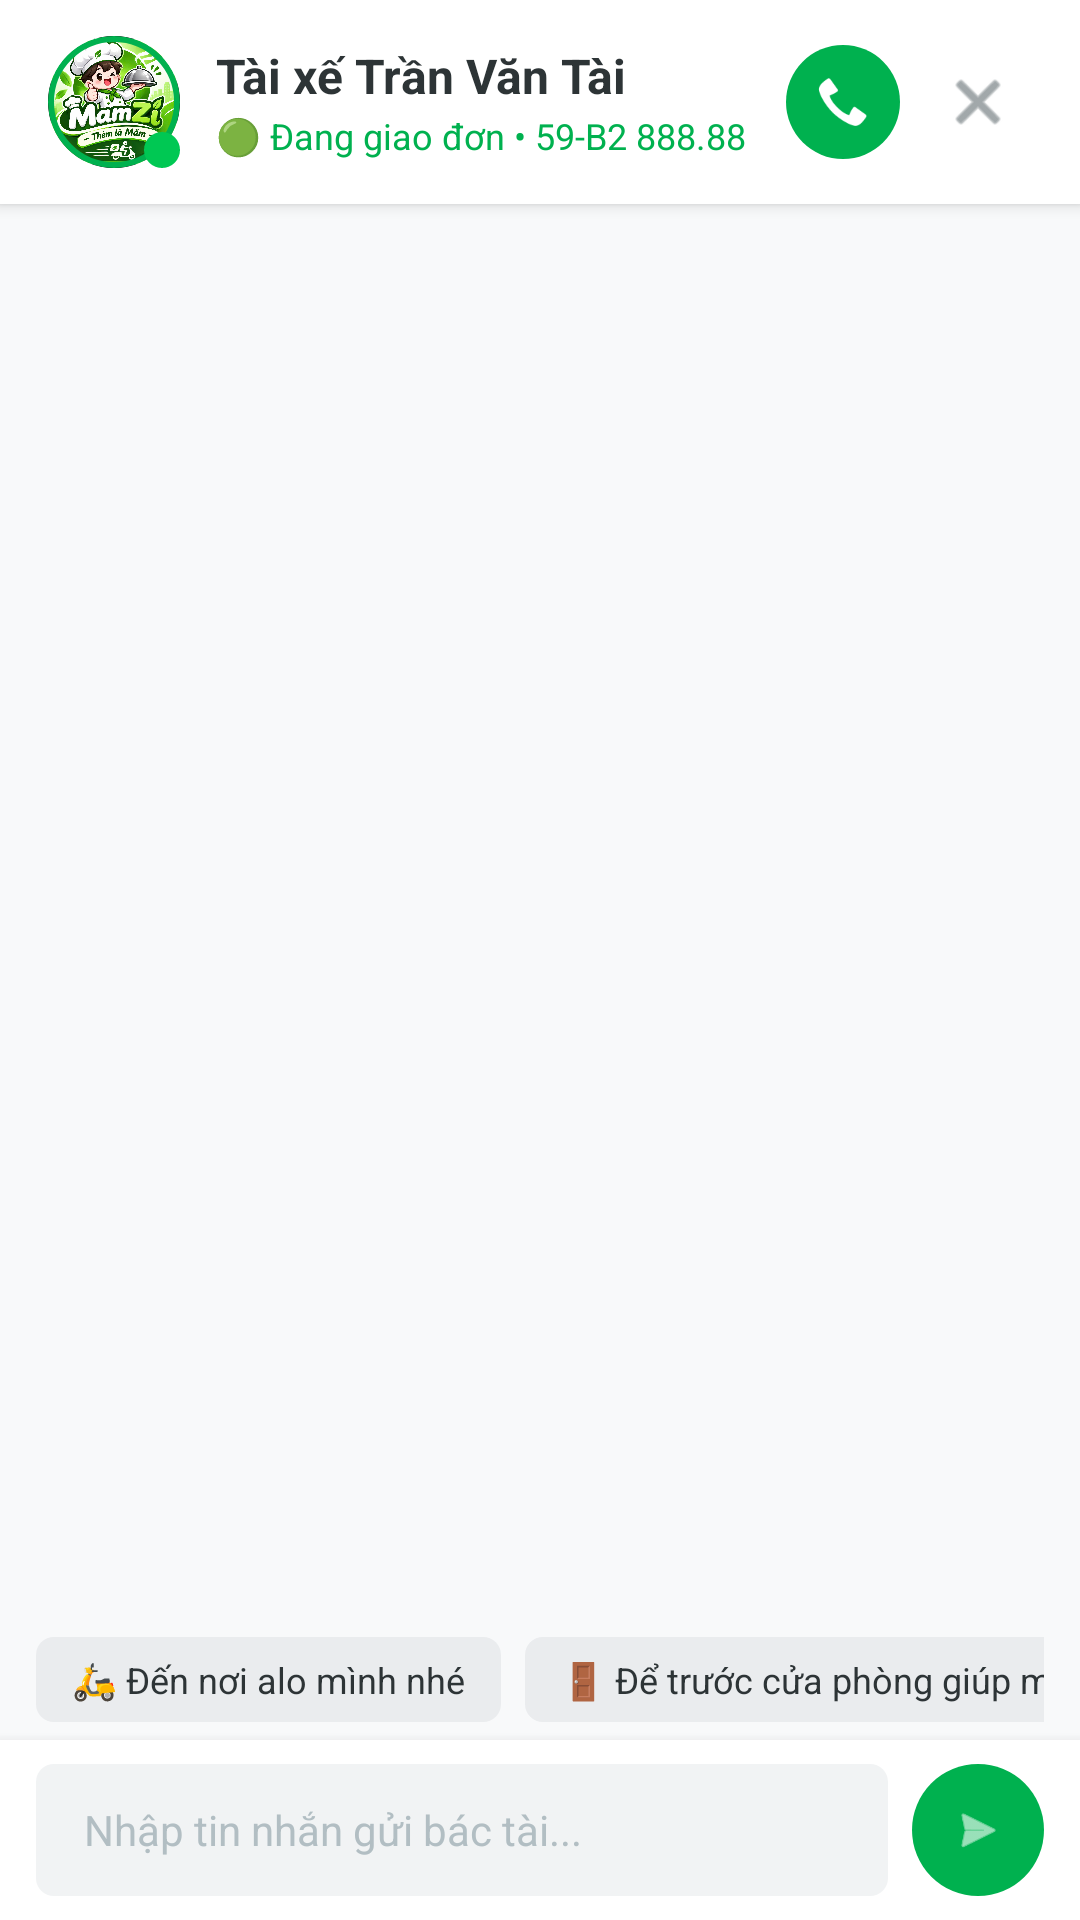

Locate icon controls on the screen. Image size 1080 x 1920, boxes as (x1, y1, x2, y2).
Close: (956, 80, 1000, 124)
phone call: (786, 45, 900, 159)
send: (912, 1764, 1044, 1896)
